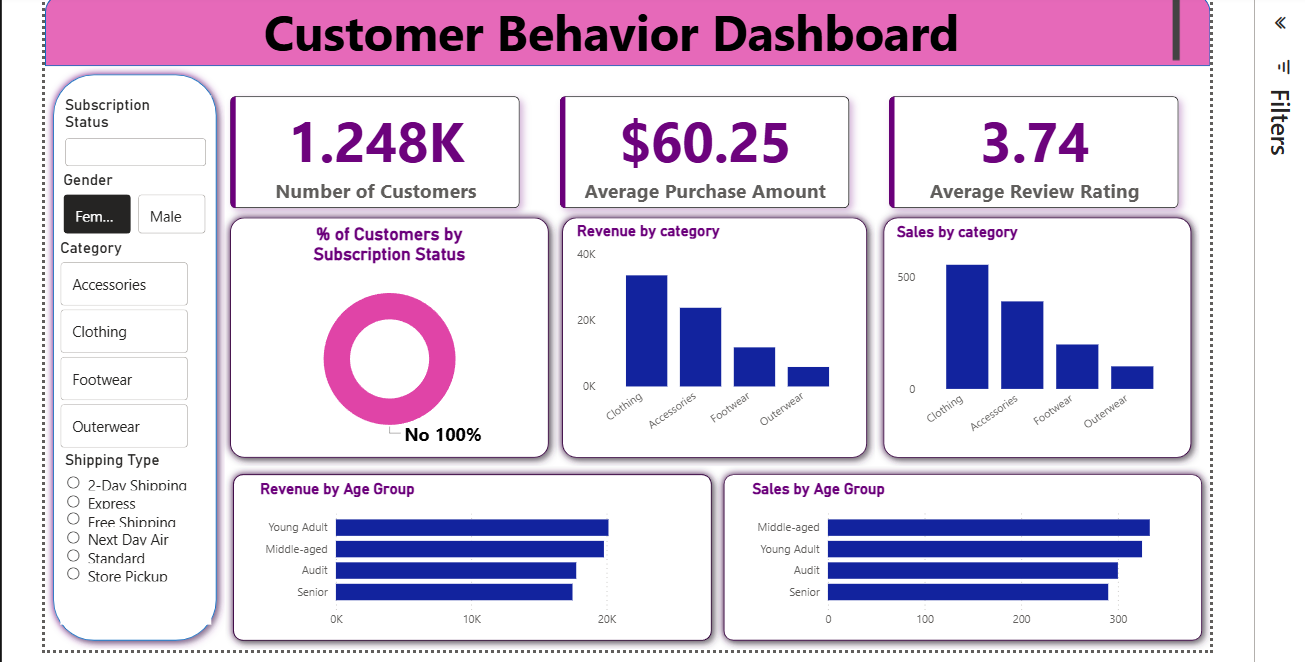

What the dashboard file says about the page in this screenshot:
{"tool":"powerbi","page":{"name":"Customer_Behavior","canvas":[1280,720],"ordinal":0},"visuals":[{"type":"cardVisual","fields":{"Data":["public customer.Number of Customers","public customer.Average Purchase Amount","public customer.Average Review Rating"]},"box":[170.6,79.4,1109.9,189.2],"z":0},{"type":"shape","box":[0,0,1280.6,79.4],"z":1000},{"type":"textbox","box":[0,0,1251.8,79.4],"z":2000},{"type":"shape","box":[194.3,236.5,368.3,282.1],"z":3000},{"type":"donutChart","title":"% of Customers by Subscription Status","fields":{"Category":["public customer.subscription_status"],"Y":["CountNonNull(public customer.customer_id)"]},"box":[212.9,251.7,331.1,250],"z":4000},{"type":"shape","box":[559.2,236.5,353.1,282.1],"z":5000},{"type":"shape","box":[912.3,236.5,356.5,282.1],"z":6000},{"type":"clusteredColumnChart","title":"Revenue by category","fields":{"Y":["Sum(public customer.purchase_amount)"],"Category":["public customer.category"]},"box":[579.5,250,312.5,251],"z":7000},{"type":"clusteredColumnChart","title":"Sales by category","fields":{"Y":["CountNonNull(public customer.customer_id)"],"Category":["public customer.category"]},"box":[930.9,251.7,318,252],"z":8000},{"type":"shape","box":[0,79.4,197.7,640.3],"z":9000},{"type":"advancedSlicerVisual","fields":{"Values":["public customer.subscription_status"]},"box":[16.9,111.5,165.6,82.8],"z":10000},{"type":"advancedSlicerVisual","fields":{"Values":["public customer.gender"]},"box":[15.2,194.3,167.3,74.3],"z":11000},{"type":"advancedSlicerVisual","title":"Category","fields":{"Values":["public customer.category"]},"box":[11.8,268.6,150.4,234.8],"z":12000},{"type":"listSlicer","title":"Shipping Type","fields":{"Values":["public customer.shipping_type"]},"box":[16.9,501.8,165.6,190.9],"z":13000},{"type":"shape","box":[736.6,518.6,544,201],"z":15000},{"type":"clusteredBarChart","title":"Sales by Age Group","fields":{"Y":["CountNonNull(public customer.customer_id)"],"Category":["public customer.age_group"]},"box":[772.1,533.8,474.7,172.3],"z":16000},{"type":"shape","box":[197.7,518.6,544,201],"z":16001},{"type":"clusteredBarChart","title":"Revenue by Age Group","fields":{"Y":["Sum(public customer.purchase_amount)"],"Category":["public customer.age_group"]},"box":[231.4,533.8,474.7,172.3],"z":16002}]}

Visuals, with their boxes in screenshot pixels (x1, y1, x2, y2):
cardVisual - public customer.Number of Customers x public customer.Average Purchase Amount: box(202, 65, 1210, 237)
shape: box(48, 0, 1210, 65)
textbox: box(48, 0, 1184, 65)
shape: box(224, 208, 558, 464)
"% of Customers by Subscription Status" donutChart: box(241, 222, 541, 449)
shape: box(555, 208, 876, 464)
shape: box(876, 208, 1199, 464)
"Revenue by category" clusteredColumnChart: box(574, 220, 857, 448)
"Sales by category" clusteredColumnChart: box(893, 222, 1181, 450)
shape: box(48, 65, 227, 646)
advancedSlicerVisual - public customer.subscription_status: box(63, 94, 213, 170)
advancedSlicerVisual - public customer.gender: box(61, 170, 213, 237)
"Category" advancedSlicerVisual: box(58, 237, 195, 450)
"Shipping Type" listSlicer: box(63, 449, 213, 622)
shape: box(716, 464, 1210, 646)
"Sales by Age Group" clusteredBarChart: box(748, 478, 1179, 634)
shape: box(227, 464, 721, 646)
"Revenue by Age Group" clusteredBarChart: box(258, 478, 688, 634)
